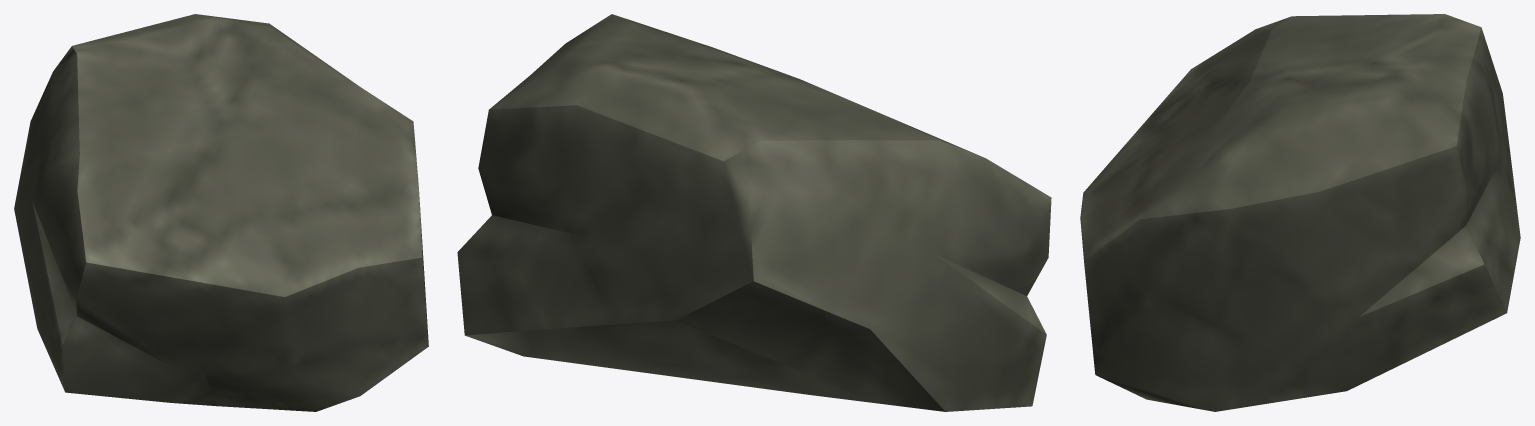
Rendered from Rock_07.fbx.
3 views of the same model, side by side, from view 1: azimuth 30°, elevation 25°; view 2: azimuth 150°, elevation 25°; view 3: azimuth 270°, elevation 25° (orthographic). The views are drawn at different scales.
Visible parts, largest first — view 1: Rock_07; view 2: Rock_07; view 3: Rock_07.
Part boxes in pixels (<box>): Rock_07: <box>14,14,428,411</box>; Rock_07: <box>457,14,1051,411</box>; Rock_07: <box>1080,14,1520,411</box>.
Size of the model in its own units: 288 by 222 by 273.
Materials: 1 (1 with a texture image).
